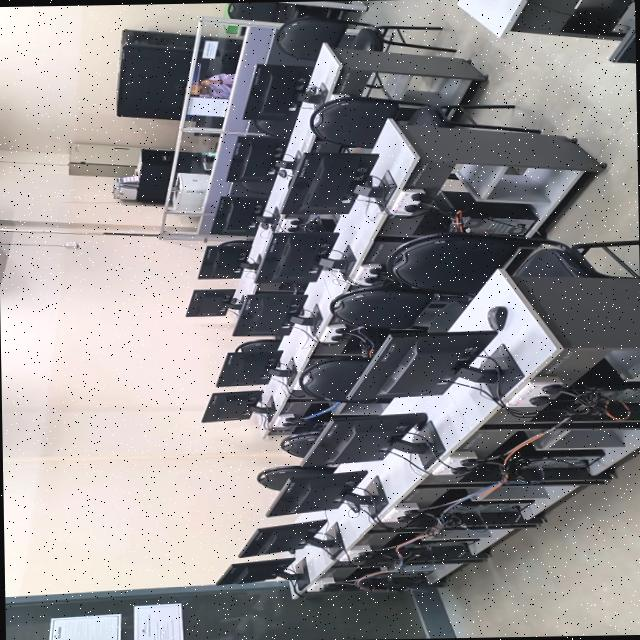Chair: (388, 231, 639, 293), (309, 94, 540, 146), (276, 15, 454, 58), (329, 282, 469, 330), (299, 357, 391, 401), (227, 1, 342, 22), (256, 465, 335, 489), (254, 110, 296, 136), (279, 430, 319, 457), (239, 180, 272, 193)
Cpu: (439, 191, 536, 235), (450, 500, 531, 512), (528, 456, 597, 468), (603, 388, 640, 401)
Monitor: (348, 329, 499, 399), (302, 412, 426, 464), (283, 151, 377, 213), (255, 230, 354, 283), (267, 469, 367, 514), (239, 518, 342, 556), (232, 292, 321, 335), (243, 63, 308, 119), (227, 135, 286, 183), (216, 350, 296, 385), (202, 389, 274, 421), (211, 195, 267, 235), (216, 557, 295, 583), (199, 240, 253, 277), (186, 289, 241, 315)
Mouse: (487, 305, 507, 330)
